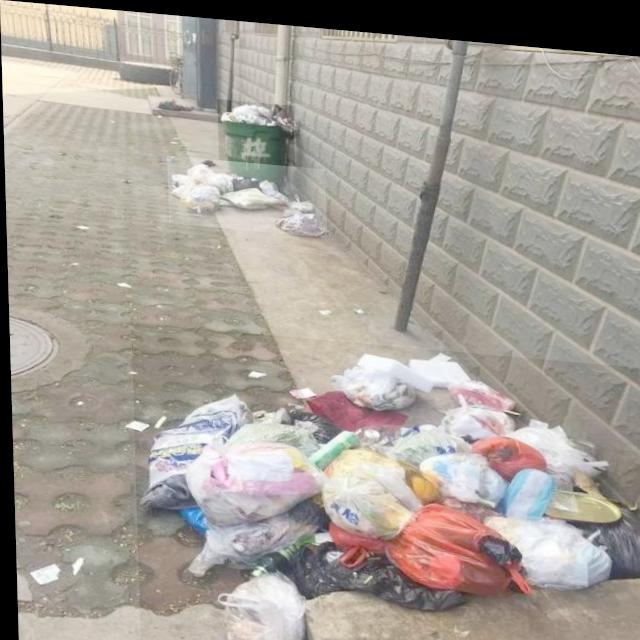garbage: (129, 321, 640, 640), (166, 153, 326, 231)
overflow: (217, 95, 295, 180)
